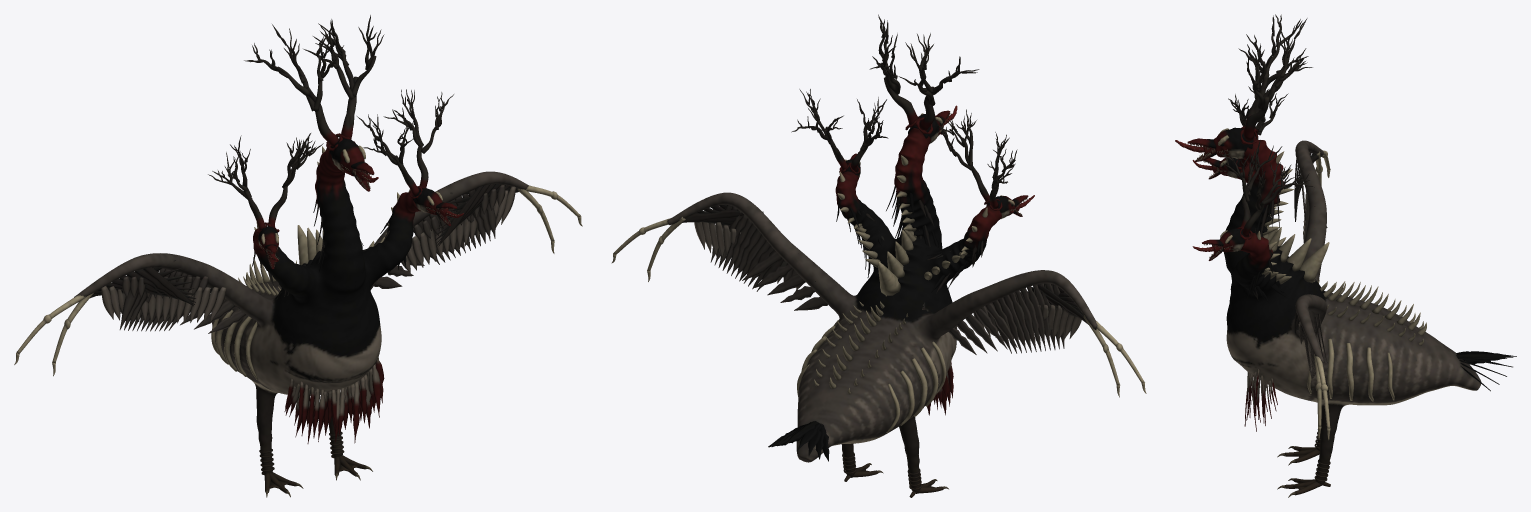
File: goose_v2.glb
3 views of the same model, side by side, from view 1: azimuth 30°, elevation 25°; view 2: azimuth 150°, elevation 25°; view 3: azimuth 270°, elevation 25° (orthographic). The views are drawn at different scales.
Parts seen in each view (by area): view 1: eldritch_goose; view 2: eldritch_goose; view 3: eldritch_goose.
Part boxes in pixels (bbox=[...]): eldritch_goose: bbox=[14, 15, 582, 497]; eldritch_goose: bbox=[611, 14, 1146, 497]; eldritch_goose: bbox=[1175, 14, 1516, 497].
Size of the model in its own units: 8.5 by 6.75 by 4.67.
Materials: 1 (1 with a texture image).
